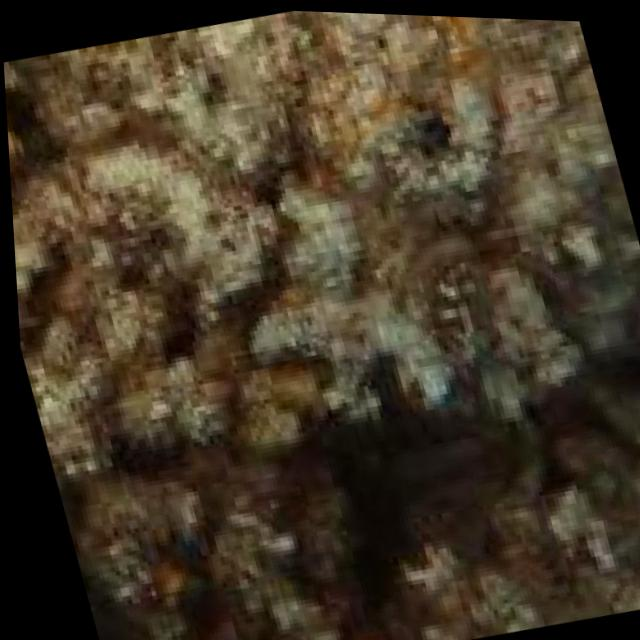Bleached Coral: (208, 158, 472, 435), (77, 114, 291, 312)
